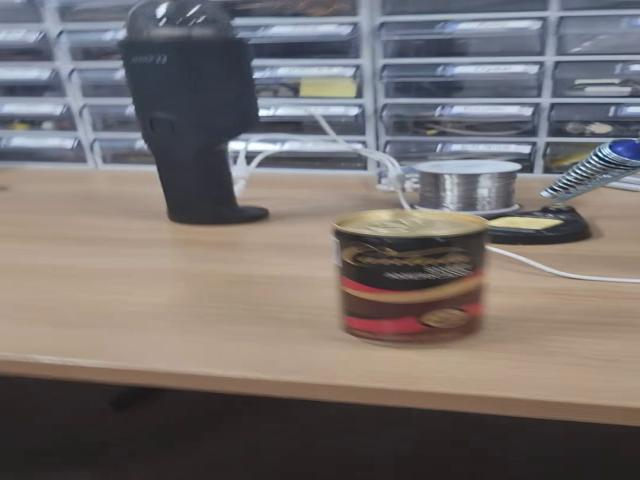Canned_drinks: (334, 212, 482, 344)
